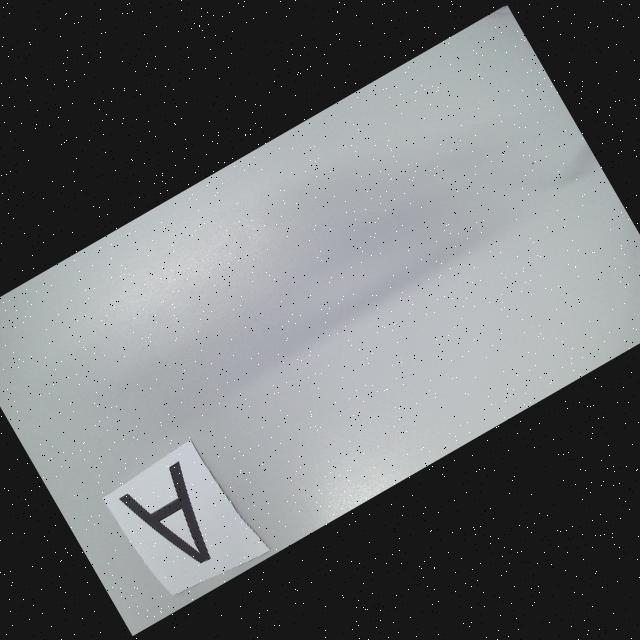FAKE: (118, 462, 229, 584)
